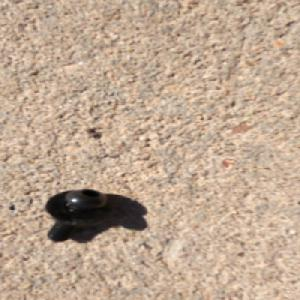BoltWasher: (46, 187, 116, 242)
